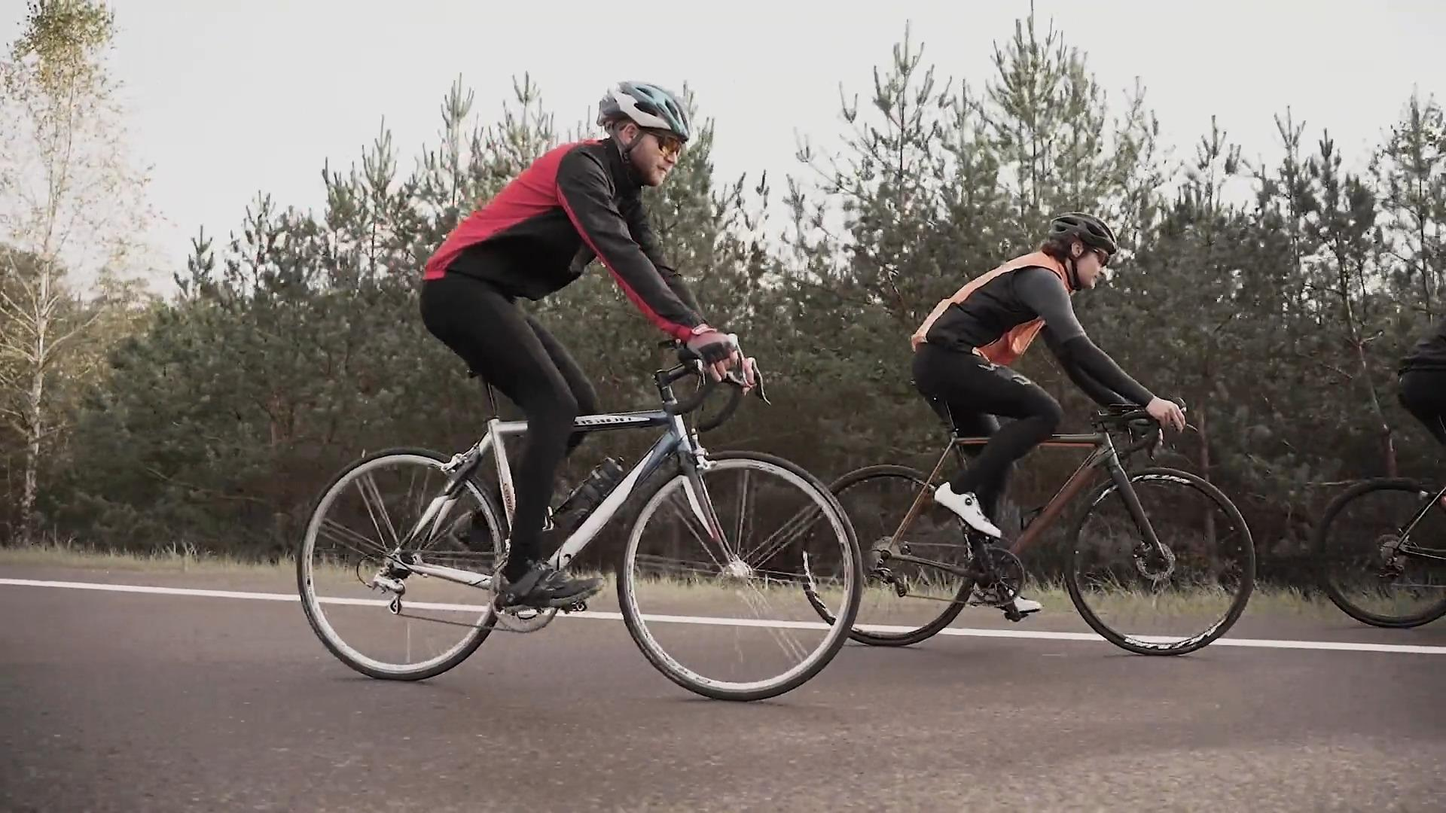bicyclist: (293, 81, 860, 700), (796, 211, 1257, 658)
helmet: (596, 81, 692, 187), (1041, 212, 1118, 291)
